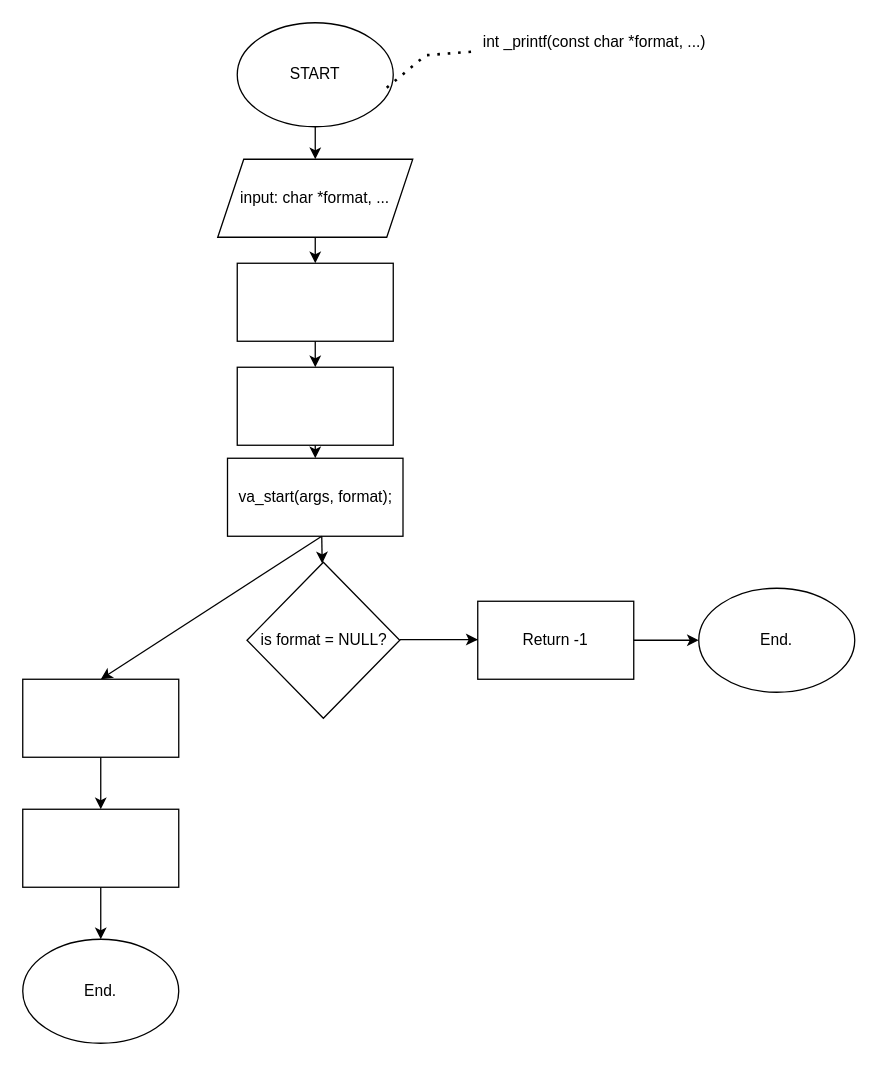
The diagram is 877 pixels wide and 1066 high, and some of its shapes have lost their labels. Here are the shapes that lost their labels. From the top down, the centre of each, then its label:
the point at 314,301: Initialize int contador equal to 0.
the point at 314,405: va_list args;
the point at 100,717: Contador increased by the int returned from menu.
the point at 100,847: return contador
